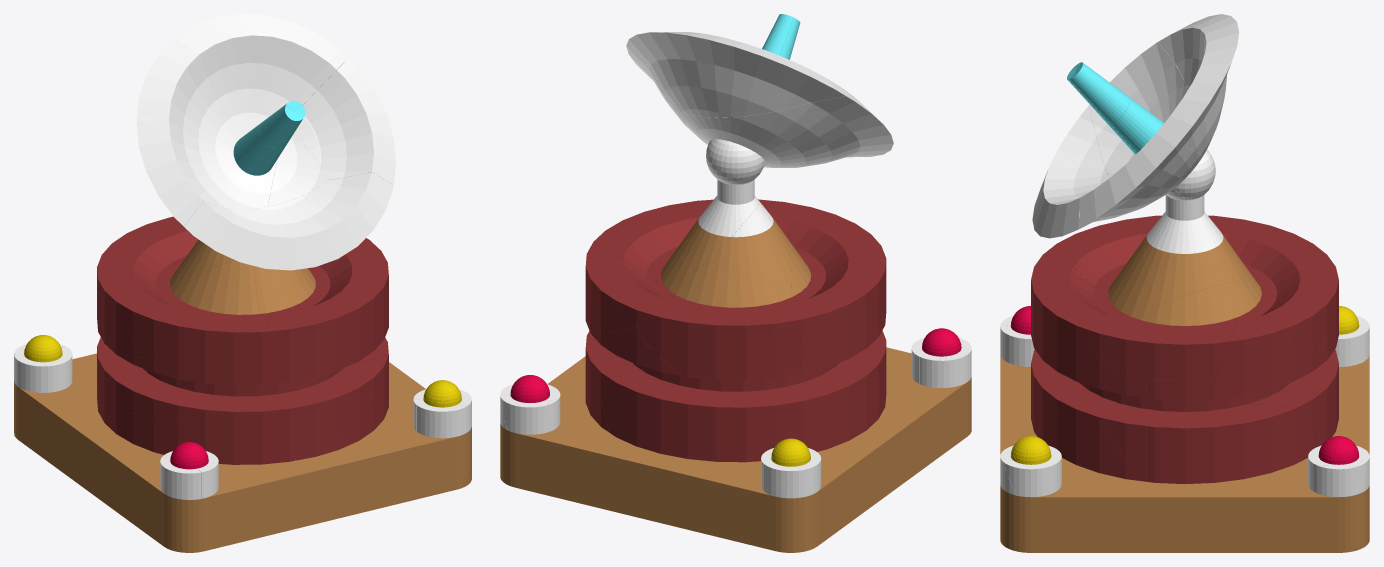
File: LandRadarDebris.dae
3 views of the same model, side by side, from view 1: azimuth 30°, elevation 25°; view 2: azimuth 150°, elevation 25°; view 3: azimuth 270°, elevation 25° (orthographic). The views are drawn at different scales.
Visible parts, largest first — view 1: Cube, Cone_cell.005, Cylinder_cell.010, Cylinder_cell.013, Cone_cell.002, Cone_cell.001, Cone_cell.003, Cylinder_cell.003, Cylinder_cell.005, Cylinder_cell.004, Cylinder.003_cell.004, Cylinder_cell.006 (+14 smaller); view 2: Cube, Cylinder_cell.011, Cone_cell.005, Cone_cell.001, Cylinder_cell.005, Cylinder_cell.006, Cylinder_cell.008, Cylinder_cell.003, Cylinder_cell.001, Cylinder.003_cell.002, Cylinder.003_cell.005, Cylinder_cell.002 (+26 smaller); view 3: Cube, Cylinder_cell.010, Cylinder_cell.012, Cylinder_cell.001, Cone_cell.005, Cylinder_cell.014, Cone_cell.002, Cylinder_cell.015, Cylinder_cell.007, Cylinder_cell.003, Cone_cell.001, Cylinder_cell (+23 smaller).
Part boxes in pixels (<box>): Cube: <box>14,353,471,552</box>; Cone_cell.005: <box>137,14,348,117</box>; Cylinder_cell.010: <box>266,280,388,460</box>; Cylinder_cell.013: <box>127,328,289,448</box>; Cone_cell.002: <box>184,172,393,270</box>; Cone_cell.001: <box>136,111,277,226</box>; Cone_cell.003: <box>303,58,396,184</box>; Cylinder_cell.003: <box>116,262,274,357</box>; Cylinder_cell.005: <box>97,262,152,431</box>; Cylinder_cell.004: <box>114,412,295,464</box>; Cylinder.003_cell.004: <box>174,260,259,314</box>; Cylinder_cell.006: <box>101,216,198,272</box>; Cube: <box>500,347,971,552</box>; Cylinder_cell.011: <box>702,312,835,462</box>; Cone_cell.005: <box>627,32,845,117</box>; Cone_cell.001: <box>682,86,893,167</box>; Cylinder_cell.005: <box>777,294,880,445</box>; Cylinder_cell.006: <box>636,298,778,379</box>; Cylinder_cell.008: <box>598,375,710,460</box>; Cylinder_cell.003: <box>744,224,886,322</box>; Cylinder_cell.001: <box>590,203,702,281</box>; Cylinder.003_cell.002: <box>710,217,791,292</box>; Cylinder.003_cell.005: <box>681,261,792,307</box>; Cylinder_cell.002: <box>589,271,661,333</box>; Cube: <box>1000,355,1369,552</box>; Cylinder_cell.010: <box>1031,256,1123,425</box>; Cylinder_cell.012: <box>1147,379,1248,483</box>; Cylinder_cell.001: <box>1088,313,1235,379</box>; Cone_cell.005: <box>1158,14,1239,154</box>; Cylinder_cell.014: <box>1091,358,1214,481</box>; Cone_cell.002: <box>1032,106,1108,238</box>; Cylinder_cell.015: <box>1215,316,1305,406</box>; Cylinder_cell.007: <box>1209,403,1319,482</box>; Cylinder_cell.003: <box>1049,215,1262,290</box>; Cone_cell.001: <box>1089,42,1211,177</box>; Cylinder_cell: <box>1032,400,1139,480</box>.
Bounding box in the file's own units: 7.5 × 7.5 × 9.91.
